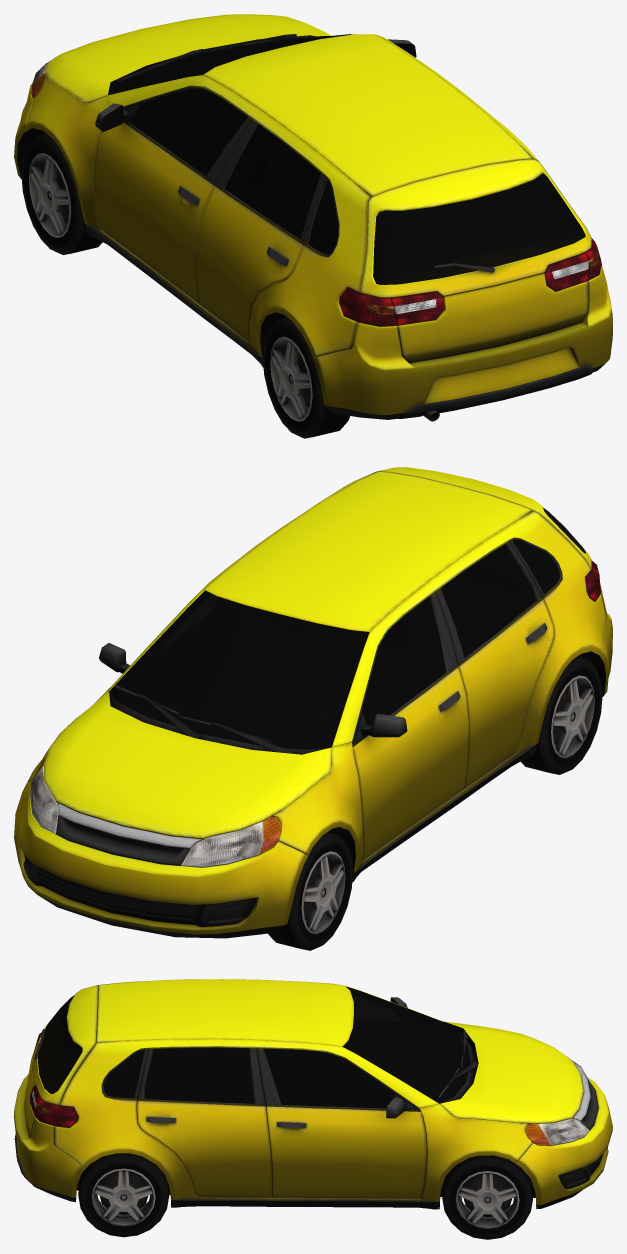
File: c_hatch.glb
The picture shows the model from 3 angles, top to bottom: view 1: azimuth 30°, elevation 25°; view 2: azimuth 150°, elevation 25°; view 3: azimuth 270°, elevation 25°; orthographic projection. The views are drawn at different scales.
Parts seen in each view (by area): view 1: body|Body_1, body|glass, body|Wheek, body|Optics_1; view 2: body|Body_1, body|glass, body|Wheek, body|Optics_1; view 3: body|Body_1, body|glass, body|Wheek, body|Optics_1.
Boxes of the visible parts, left/top/right/bottom form: body|Body_1: left=14, top=14, right=612, bottom=421; body|glass: left=109, top=34, right=585, bottom=284; body|Wheek: left=21, top=133, right=349, bottom=438; body|Optics_1: left=31, top=60, right=601, bottom=326; body|Body_1: left=14, top=467, right=612, bottom=938; body|glass: left=109, top=507, right=585, bottom=749; body|Wheek: left=268, top=656, right=602, bottom=950; body|Optics_1: left=30, top=560, right=601, bottom=867; body|Body_1: left=14, top=979, right=612, bottom=1209; body|glass: left=37, top=986, right=470, bottom=1108; body|Wheek: left=78, top=1153, right=533, bottom=1239; body|Optics_1: left=30, top=1032, right=590, bottom=1145.
Bounding box in the file's own units: 1.74 × 1.35 × 3.96.
4 materials, 3 textured.
